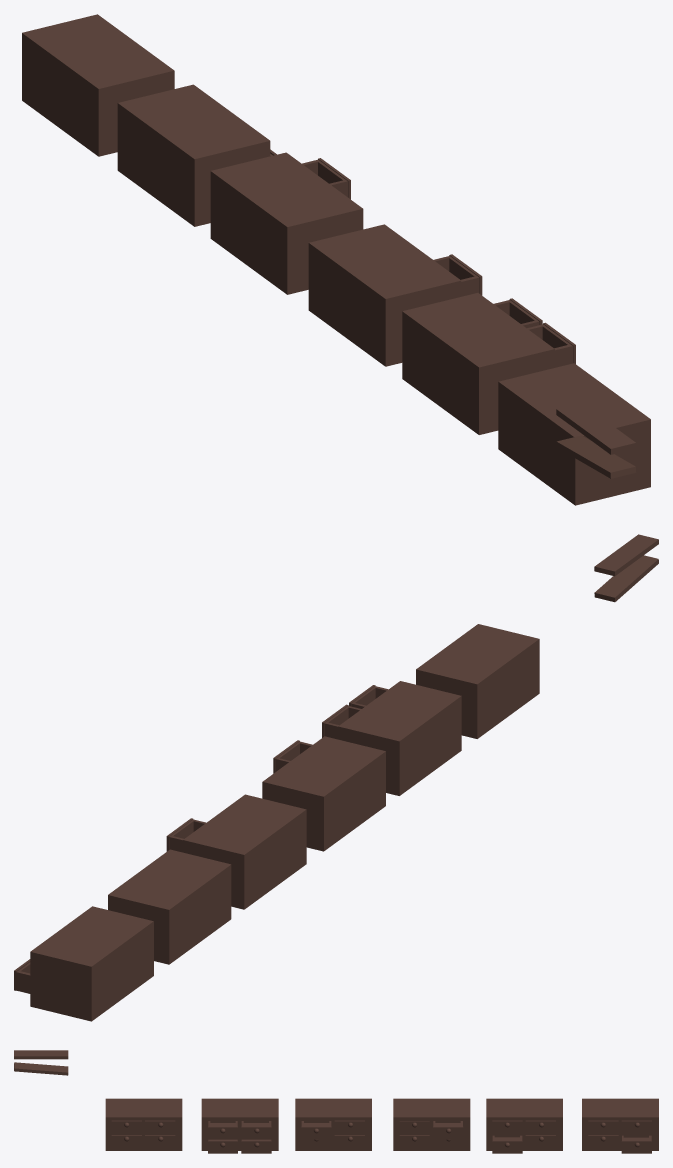
File: OG Shelves DON'T USE.fbx
3 renders of one model, top to bottom at view 1: azimuth 30°, elevation 25°; view 2: azimuth 150°, elevation 25°; view 3: azimuth 270°, elevation 25°, orthographic. The views are drawn at different scales.
Parts seen in each view (by area): view 1: Cube.009, Cube.003, Cube.015, Cube.004, Cube.012, Cube, Cube.018, Cube.019, Cube.002, Cube.006, Sphere.007; view 2: Cube.015, Cube.004, Cube, Cube.012, Cube.003, Cube.009, Cube.019, Cube.018; view 3: Cube, Cube.009, Cube.004, Cube.015, Cube.012, Cube.003, Cube.006, Sphere.004, Cube.014, Sphere.007, Sphere.012, Cube.002 (+20 smaller).
Part boxes in pixels (left/top/right/bottom): Cube.009: left=210, top=152, right=363, bottom=294; Cube.003: left=402, top=293, right=554, bottom=434; Cube.015: left=22, top=14, right=174, bottom=156; Cube.004: left=308, top=224, right=461, bottom=366; Cube.012: left=117, top=84, right=270, bottom=226; Cube: left=498, top=363, right=650, bottom=505; Cube.018: left=556, top=403, right=635, bottom=454; Cube.019: left=556, top=435, right=635, bottom=478; Cube.002: left=527, top=322, right=575, bottom=367; Cube.006: left=434, top=254, right=482, bottom=296; Sphere.007: left=302, top=158, right=350, bottom=199; Cube.015: left=30, top=906, right=153, bottom=1021; Cube.004: left=262, top=736, right=385, bottom=851; Cube: left=416, top=624, right=539, bottom=738; Cube.012: left=108, top=849, right=231, bottom=964; Cube.003: left=338, top=681, right=461, bottom=795; Cube.009: left=183, top=794, right=306, bottom=909; Cube.019: left=594, top=555, right=658, bottom=602; Cube.018: left=594, top=534, right=658, bottom=576; Cube: left=105, top=1098, right=182, bottom=1150; Cube.009: left=393, top=1098, right=470, bottom=1150; Cube.004: left=295, top=1098, right=371, bottom=1150; Cube.015: left=582, top=1098, right=658, bottom=1150; Cube.012: left=486, top=1098, right=562, bottom=1150; Cube.003: left=201, top=1098, right=278, bottom=1150; Cube.006: left=301, top=1121, right=331, bottom=1139; Sphere.004: left=241, top=1121, right=271, bottom=1139; Cube.014: left=492, top=1135, right=522, bottom=1153; Sphere.007: left=433, top=1121, right=463, bottom=1139; Sphere.012: left=621, top=1135, right=651, bottom=1153; Cube.002: left=208, top=1121, right=237, bottom=1139.
Size of the model in its own units: 348 by 279 by 2374.
